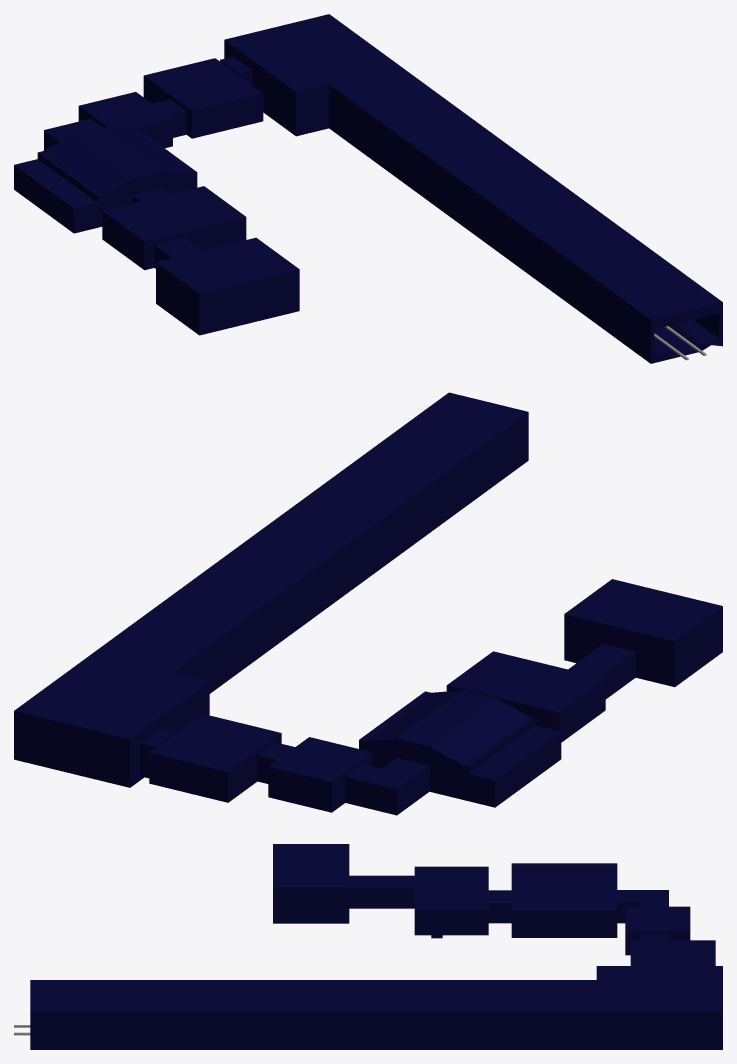
File: level.glb
The picture shows the model from 3 angles, top to bottom: view 1: azimuth 30°, elevation 25°; view 2: azimuth 150°, elevation 25°; view 3: azimuth 270°, elevation 25°; orthographic projection. The views are drawn at different scales.
Visible parts, largest first — view 1: Tramway, Room3, Room 5, Room 4, Room1, Room2; view 2: Tramway, Room3, Room 5, Room2, Room 4, Room1; view 3: Tramway, Room3, Room 5, Room 4, Room2, Room1.
Part boxes in pixels (box(x1,y1,x2,y2)): Tramway: box(220, 14, 722, 363); Room3: box(14, 127, 197, 233); Room 5: box(156, 237, 299, 335); Room 4: box(102, 186, 246, 270); Room1: box(143, 58, 263, 138); Room2: box(44, 92, 172, 150); Tramway: box(14, 392, 528, 787); Room3: box(359, 690, 561, 807); Room 5: box(564, 579, 722, 688); Room2: box(268, 737, 429, 815); Room 4: box(446, 651, 619, 742); Room1: box(149, 713, 294, 802); Tramway: box(30, 966, 722, 1049); Room3: box(488, 863, 617, 937); Room 5: box(273, 844, 374, 923); Room 4: box(374, 866, 488, 938); Room2: box(617, 890, 690, 955); Room1: box(630, 934, 715, 965).
Size of the model in its own units: 85.35 by 11.19 by 154.
